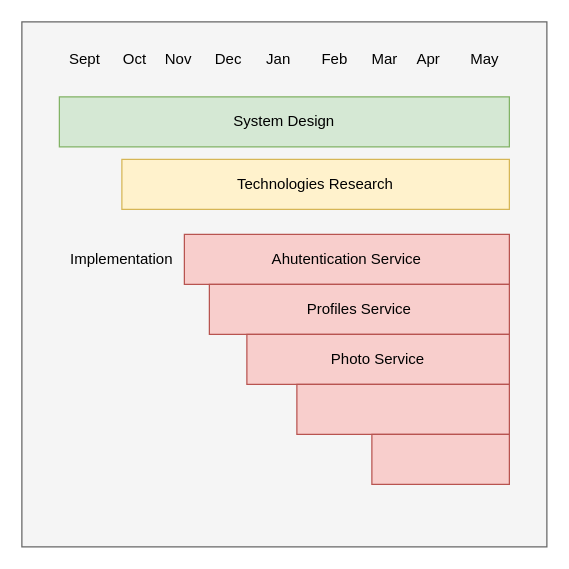
This 569x569 diagram has some shape labels left out. The box of each missing label's shape, as (x1, y1, x2, y2) in pixels:
Post Service: (296, 383, 509, 434)
Rest API: (371, 433, 509, 484)
